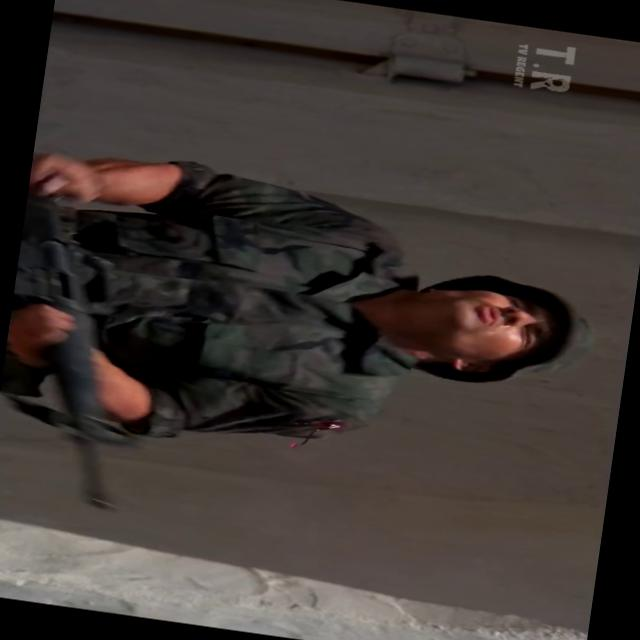long weapon: (0, 163, 186, 534)
